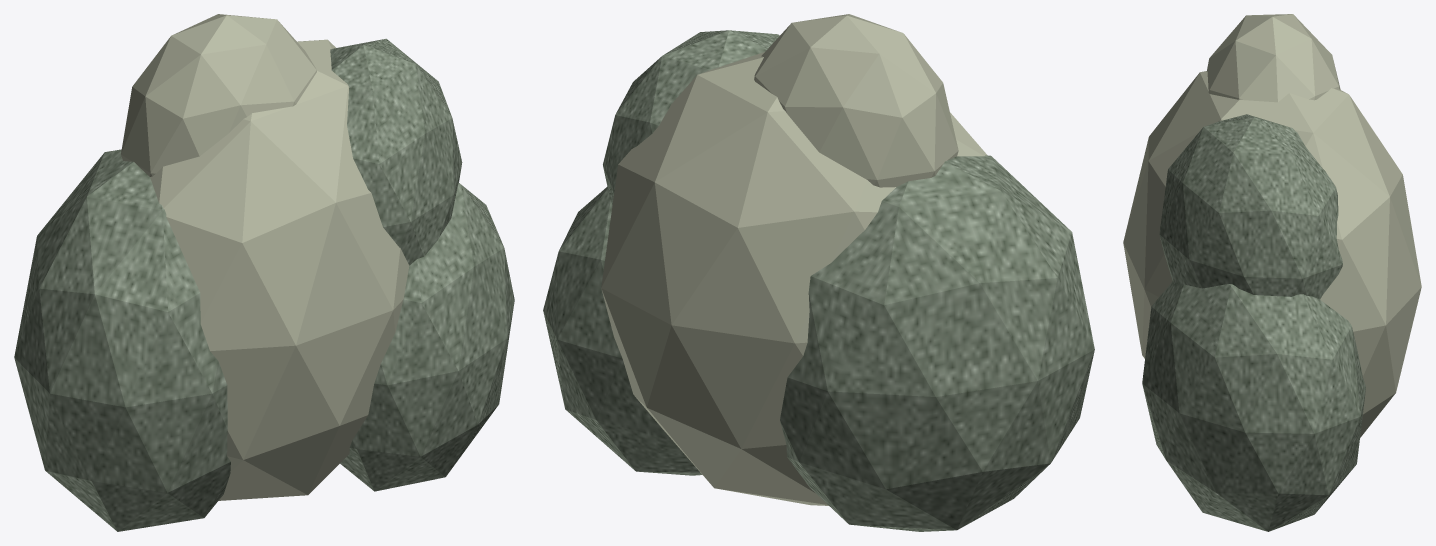
The model's file is barrier.glb.
3 views of the same model, side by side, from view 1: azimuth 30°, elevation 25°; view 2: azimuth 150°, elevation 25°; view 3: azimuth 270°, elevation 25° (orthographic). The views are drawn at different scales.
Visible parts, largest first — view 1: Block_1, Block_0, Block_2, Block_3, Block_4; view 2: Block_0, Block_1, Block_3, Block_2, Block_4; view 3: Block_2, Block_1, Block_4, Block_3.
Part boxes in pixels (box(x1,y1,x2,y2)): Block_1: box(150, 39, 409, 500); Block_0: box(14, 149, 230, 531); Block_2: box(340, 183, 514, 491); Block_3: box(121, 14, 316, 176); Block_4: box(330, 38, 462, 265); Block_0: box(780, 155, 1094, 531); Block_1: box(601, 52, 987, 505); Block_3: box(754, 14, 958, 187); Block_2: box(543, 187, 702, 475); Block_4: box(603, 30, 779, 205); Block_2: box(1142, 281, 1365, 531); Block_1: box(1123, 71, 1421, 437); Block_4: box(1159, 114, 1342, 299); Block_3: box(1207, 14, 1340, 102).
Size of the model in its own units: 2.69 by 2.65 by 1.63.
Materials: 2 (1 with a texture image).
